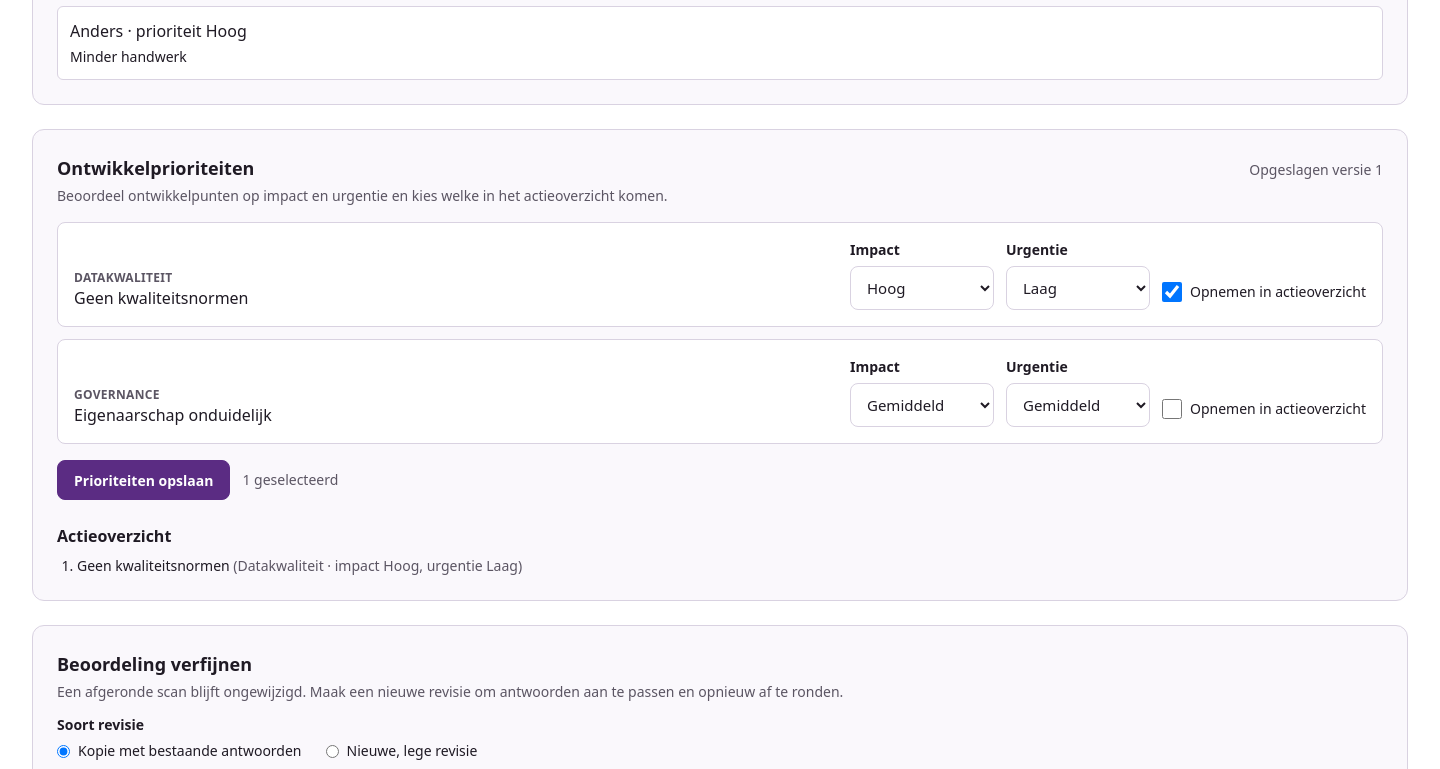
Test case: ScanResultsComponent › saves development priorities and shows the new set revision
(page scrolled)
Select "Hoog" in the dropdown with id "urgency-p3" at (1078, 405), box [1006,383,1150,427]
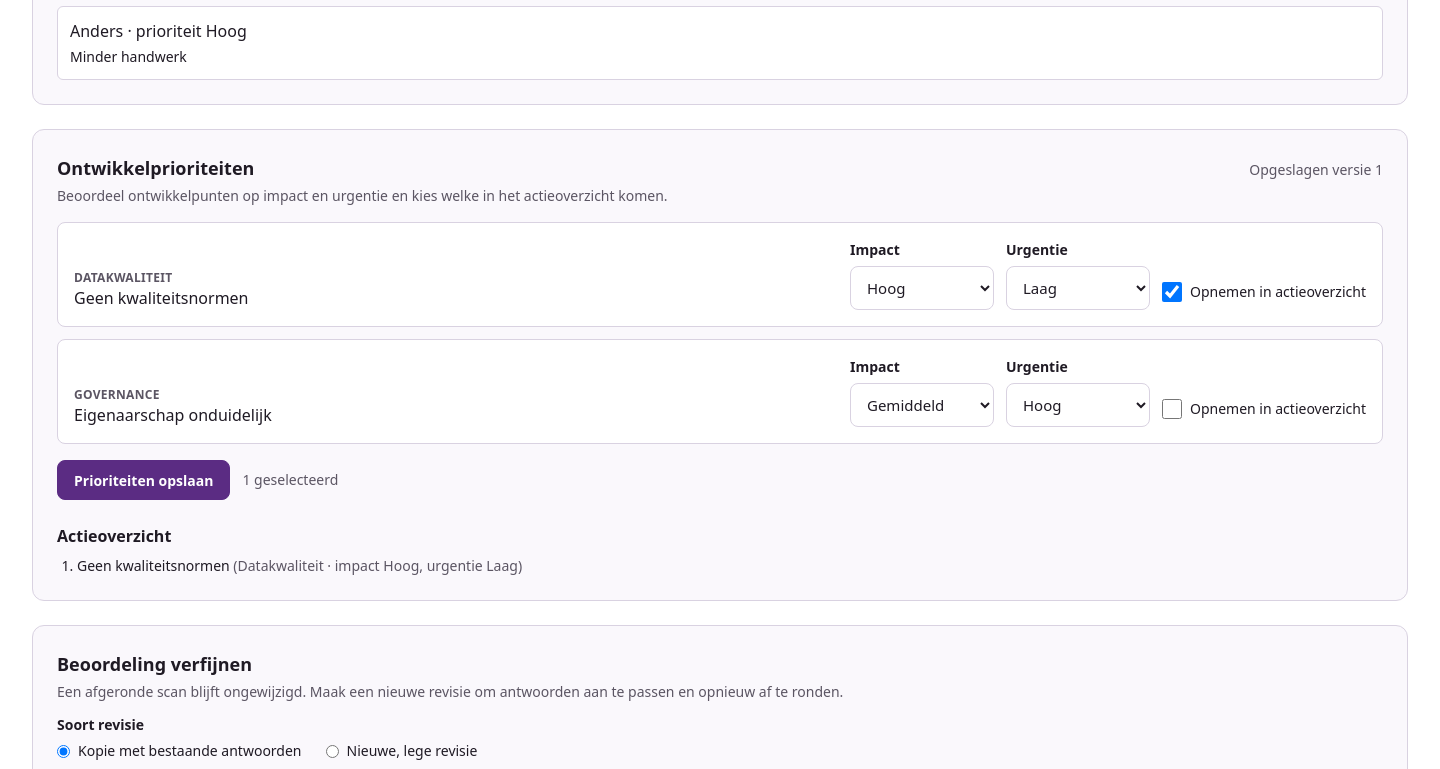
Click the checkbox with id "selected-p3".
click(1172, 409)  # box [1162,399,1182,419]
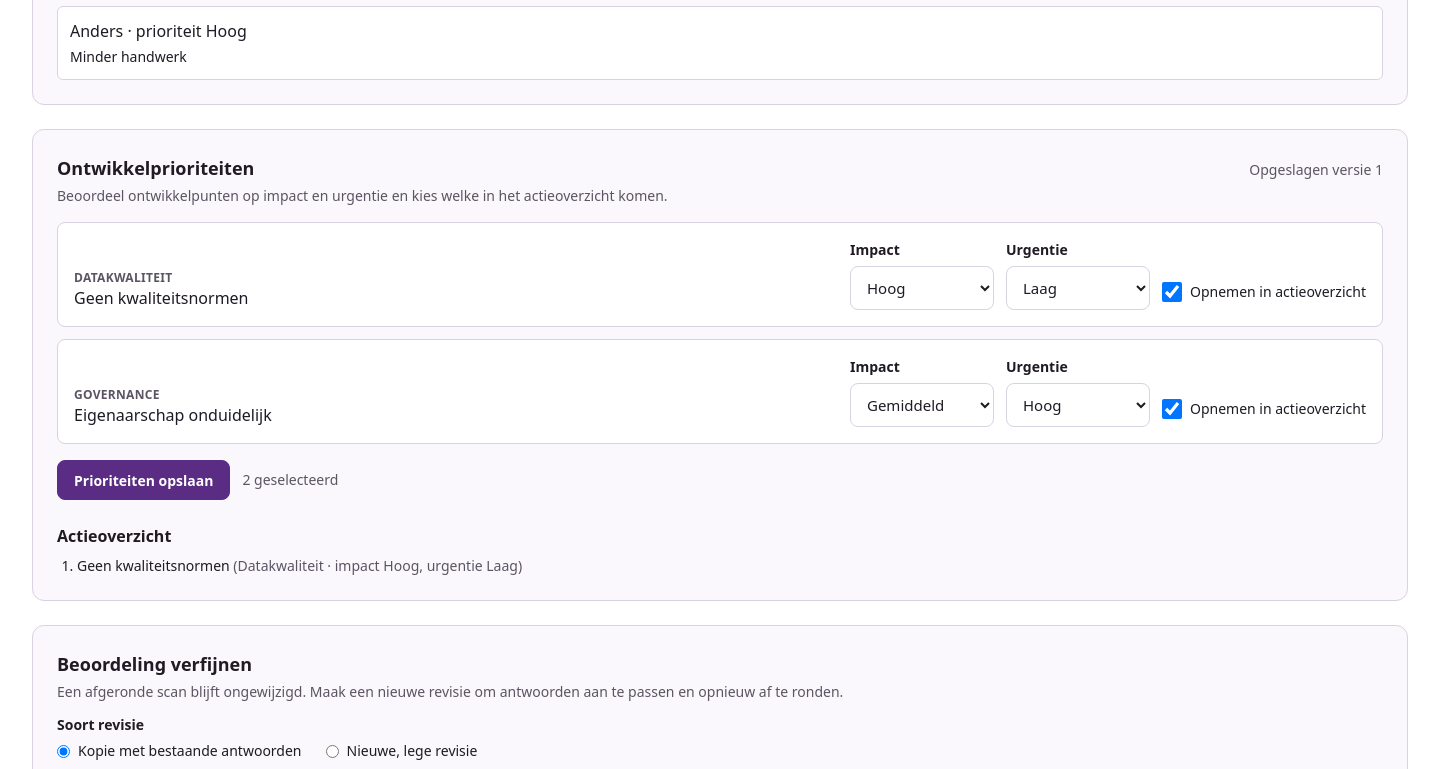
Click the button "Prioriteiten opslaan".
click(144, 480)  # box [57,460,230,500]
(page scrolled)
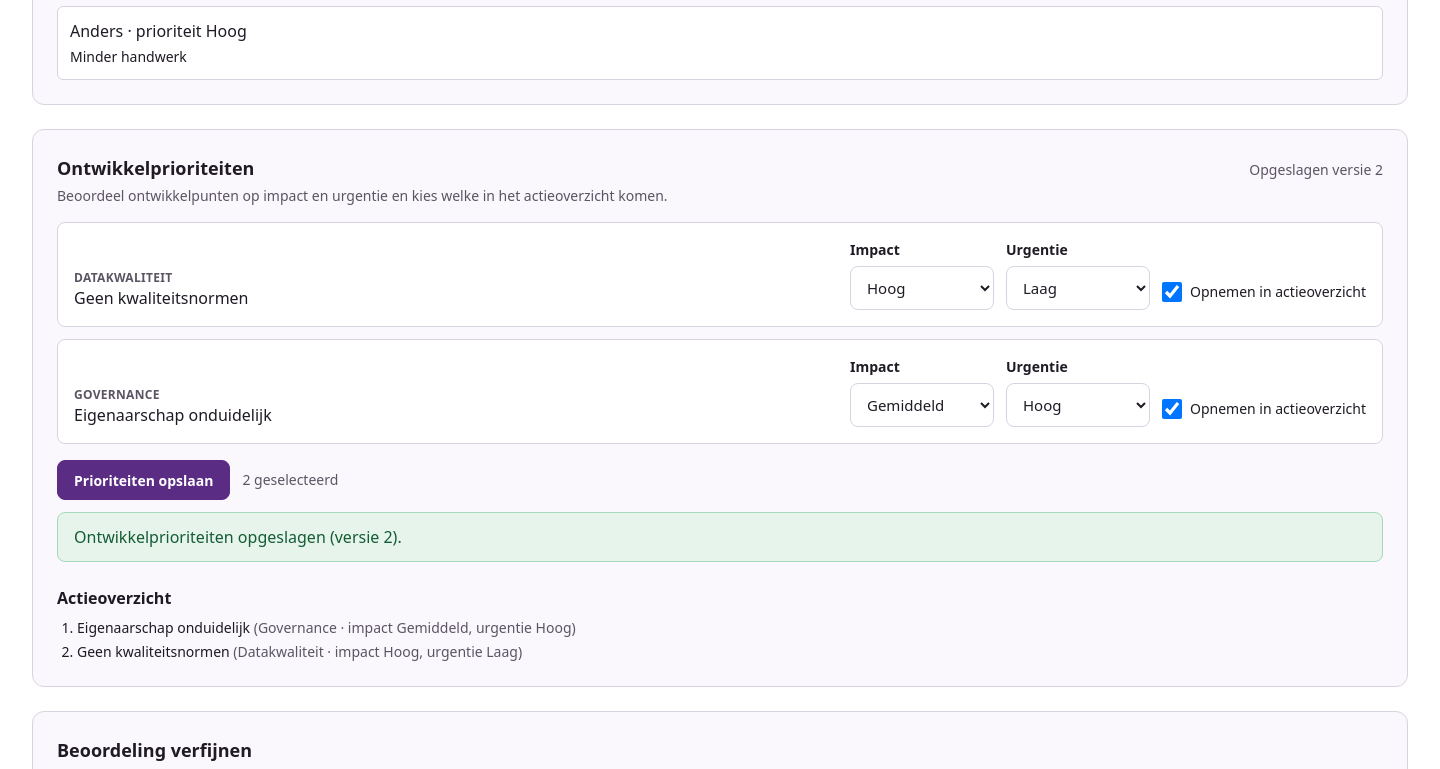
Expected: the text "Ontwikkelprioriteiten opgeslagen (versie 2)." is shown, [57,512,1383,562]
